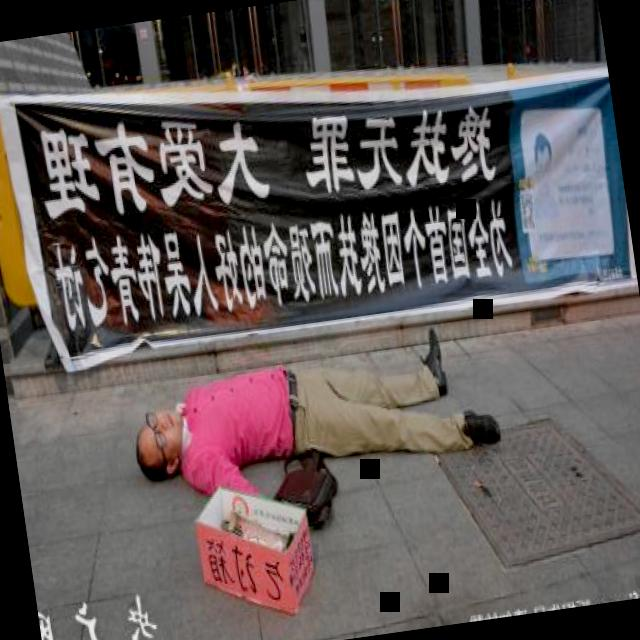Fall-Detected: (122, 311, 500, 518)
